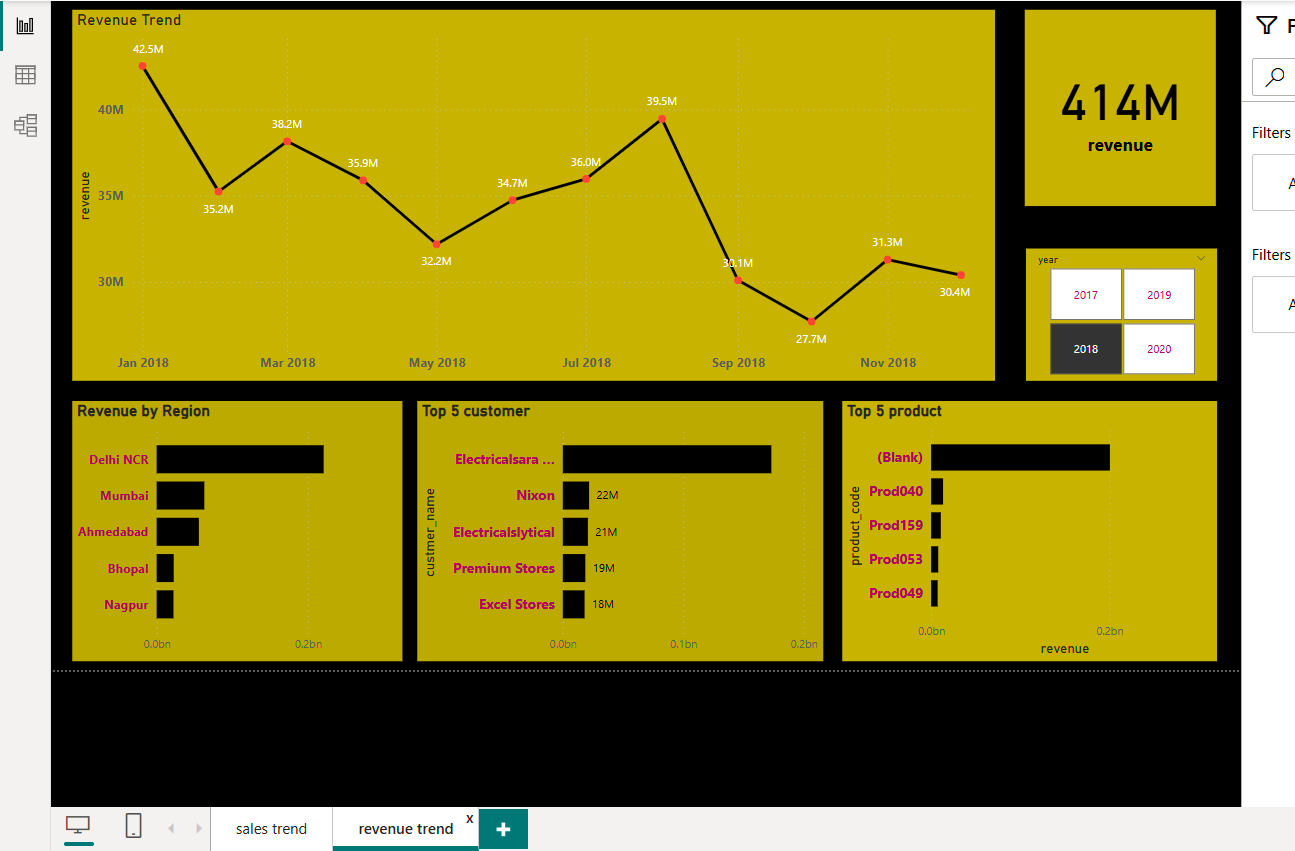

This screenshot's page, from the dashboard's own definition file:
{"tool":"powerbi","page":{"name":"revenue trend","canvas":[1280,720],"ordinal":1},"visuals":[{"type":"barChart","title":"Revenue by Region","fields":{"Y":["basemeasure.revenue"],"Category":["sales markets.markets_name"]},"box":[22.9,430.3,355,279.7],"z":0},{"type":"slicer","fields":{"Values":["sales date.year"]},"box":[1049,266.3,205.8,142.6],"z":1000},{"type":"barChart","title":"Top 5 customer","fields":{"Y":["basemeasure.revenue"],"Category":["sales customers.custmer_name"]},"box":[394,430.3,437.1,279.7],"z":2000},{"type":"clusteredBarChart","title":"Top 5 product","fields":{"Y":["basemeasure.revenue"],"Category":["sales products.product_code"]},"box":[851.3,430.3,403.4,279.7],"z":3000},{"type":"lineChart","title":"Revenue Trend","fields":{"Y":["basemeasure.revenue"],"Category":["sales date.cy_date"]},"box":[22.9,9.4,992.5,399.4],"z":4000},{"type":"card","fields":{"Values":["basemeasure.revenue"]},"box":[1047.6,9.4,205.8,211.1],"z":5000}]}

Visuals, with their boxes on the page's 1280x720 design canvas (x1, y1, x2, y2). These are canvas units, not pixel positions in the 1295x851 screenshot, which may show the page scaled, cropped or inside an application window:
"Revenue by Region" barChart: <box>23,430,378,710</box>
slicer - sales date.year: <box>1049,266,1255,409</box>
"Top 5 customer" barChart: <box>394,430,831,710</box>
"Top 5 product" clusteredBarChart: <box>851,430,1255,710</box>
"Revenue Trend" lineChart: <box>23,9,1015,409</box>
card - basemeasure.revenue: <box>1048,9,1253,220</box>
